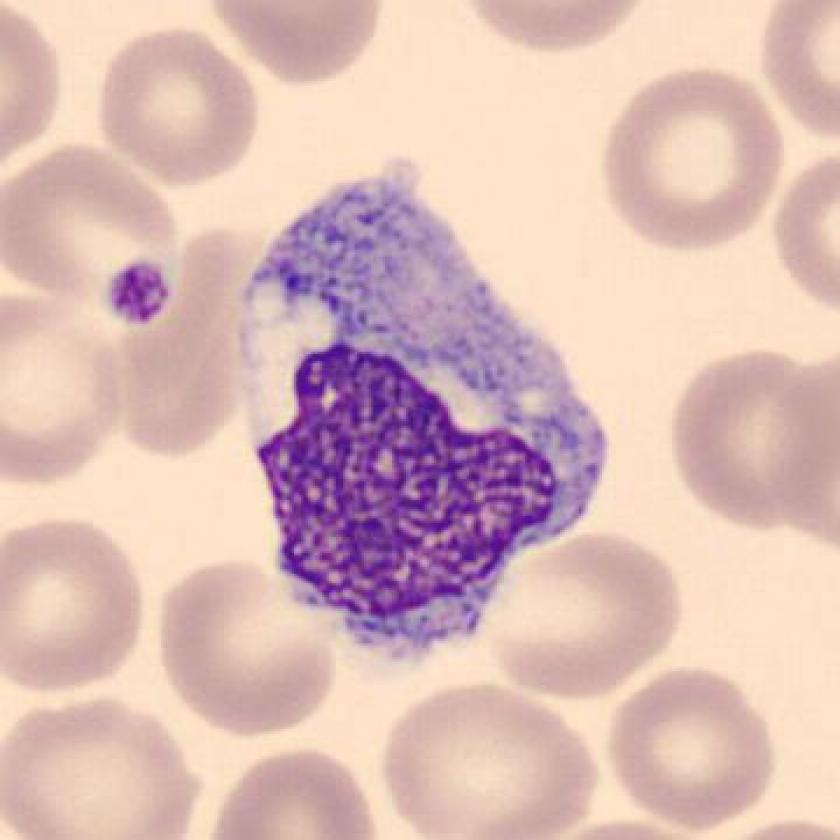monocyte: (218, 142, 629, 691)
